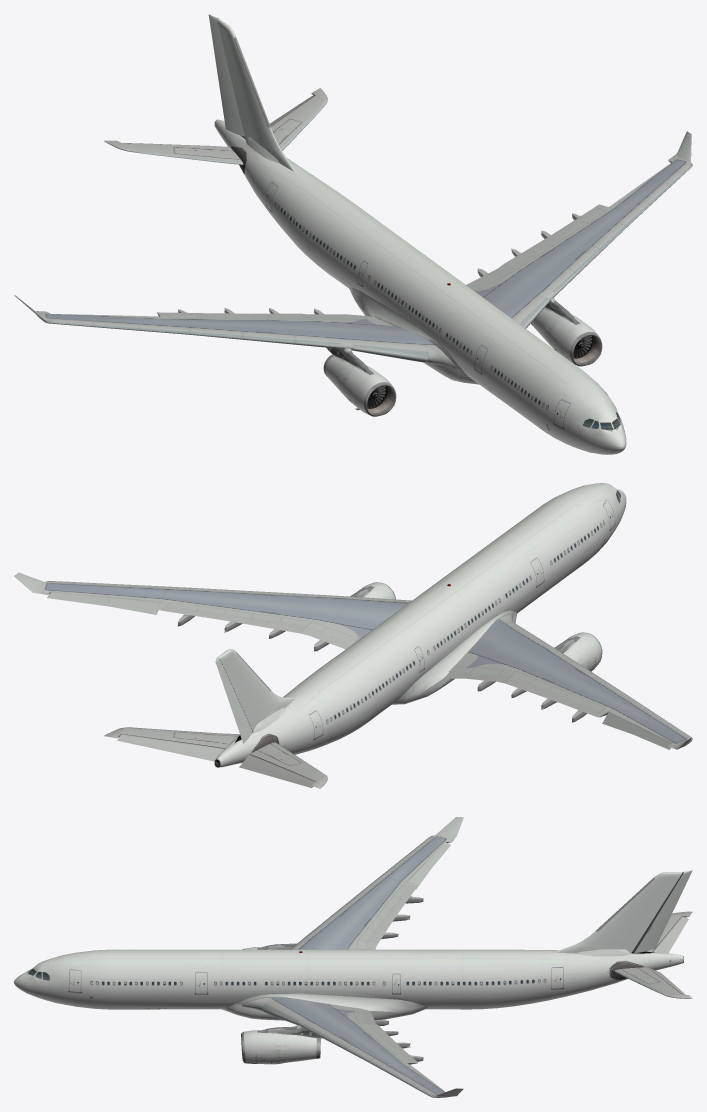
Rendered from Airbus_A330.glb.
3 views of the same model, one above another, from view 1: azimuth 30°, elevation 25°; view 2: azimuth 150°, elevation 25°; view 3: azimuth 270°, elevation 25° (orthographic). The views are drawn at different scales.
Visible parts, largest first — view 1: node_2, node_4, node_5, node_7, node_6; view 2: node_2, node_4, node_5, node_6, node_7; view 3: node_2, node_5, node_4, node_6, node_7.
Boxes of the visible parts, bbox=[...] form: node_2: bbox=[104, 14, 626, 454]; node_4: bbox=[470, 131, 692, 318]; node_5: bbox=[14, 295, 456, 368]; node_7: bbox=[51, 319, 340, 348]; node_6: bbox=[547, 164, 691, 295]; node_2: bbox=[47, 483, 671, 788]; node_4: bbox=[14, 572, 409, 644]; node_5: bbox=[449, 614, 692, 749]; node_6: bbox=[51, 581, 339, 597]; node_7: bbox=[547, 647, 690, 737]; node_2: bbox=[14, 842, 692, 1091]; node_5: bbox=[297, 817, 463, 949]; node_4: bbox=[241, 997, 463, 1097]; node_6: bbox=[302, 1022, 433, 1095]; node_7: bbox=[303, 837, 433, 938].
Bounding box in the file's own units: 60.29 × 15.41 × 63.69.
Materials: 2 (2 with a texture image).
